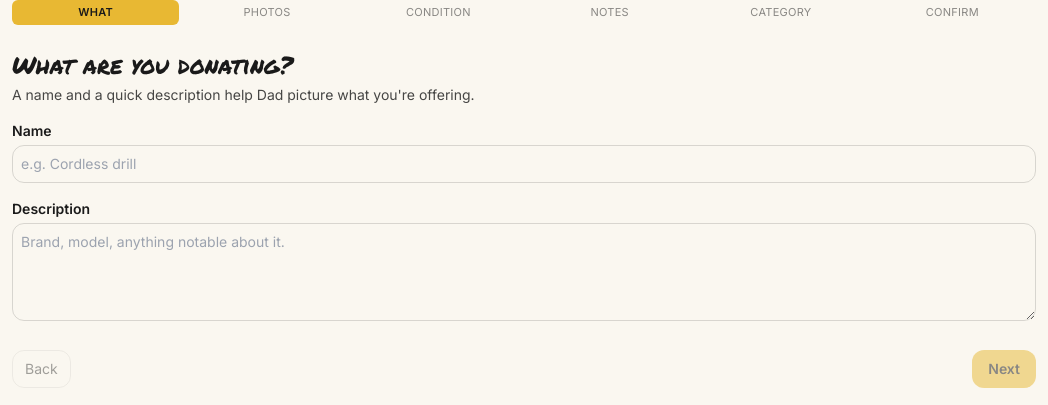
DonateForm state machine › blocks Next on the first step until a name is entered
Expected: the button with test id "donate-next" is disabled, [972, 350, 1036, 388]
Step 1. Type "Old Saw" into the field with test id "donate-name-input" → (524, 164), box [12, 144, 1036, 182]
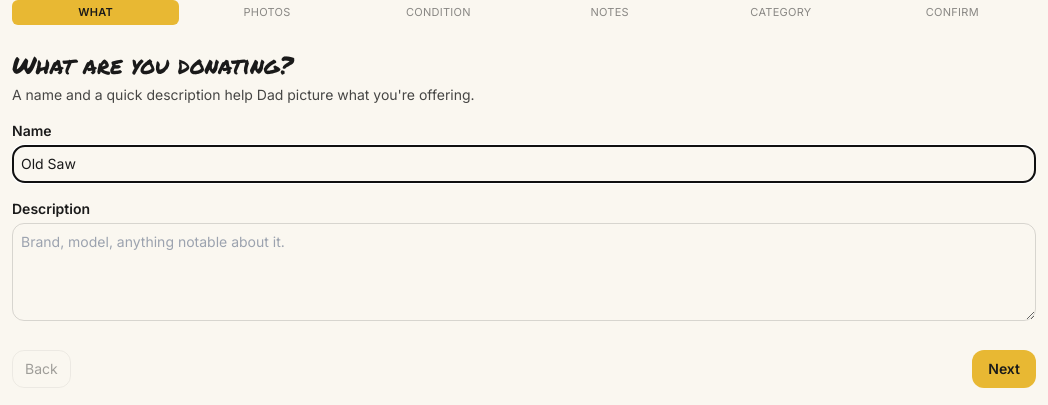
Expected: the button with test id "donate-next" is enabled, [972, 350, 1036, 388]
